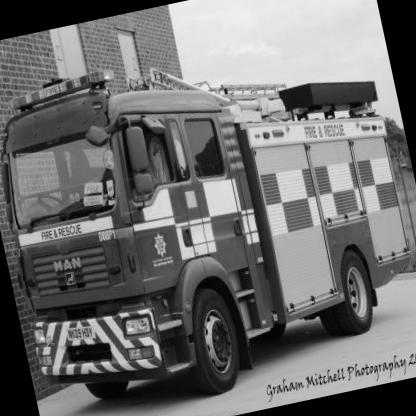truck: (1, 10, 416, 416)
